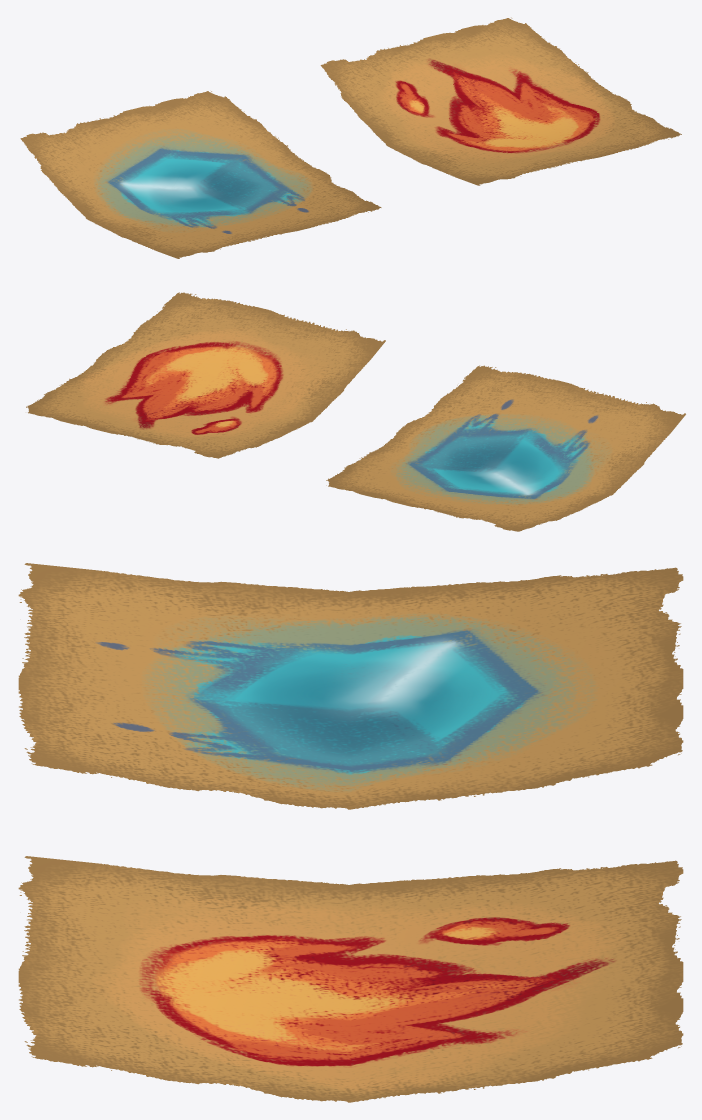
File: paginas.fbx
3 renders of one model, top to bottom at view 1: azimuth 30°, elevation 25°; view 2: azimuth 150°, elevation 25°; view 3: azimuth 270°, elevation 25°, orthographic. The views are drawn at different scales.
Parts seen in each view (by area): view 1: pagina_gelo.001, pagina_gelo; view 2: pagina_gelo, pagina_gelo.001; view 3: pagina_gelo, pagina_gelo.001.
Boxes of the visible parts, <box> form: pagina_gelo.001: <box>320,17,681,185</box>; pagina_gelo: <box>20,91,381,258</box>; pagina_gelo: <box>326,365,685,531</box>; pagina_gelo.001: <box>26,292,385,458</box>; pagina_gelo: <box>18,563,683,809</box>; pagina_gelo.001: <box>18,856,683,1102</box>.
Size of the model in its own units: 962 by 37.09 by 524.
